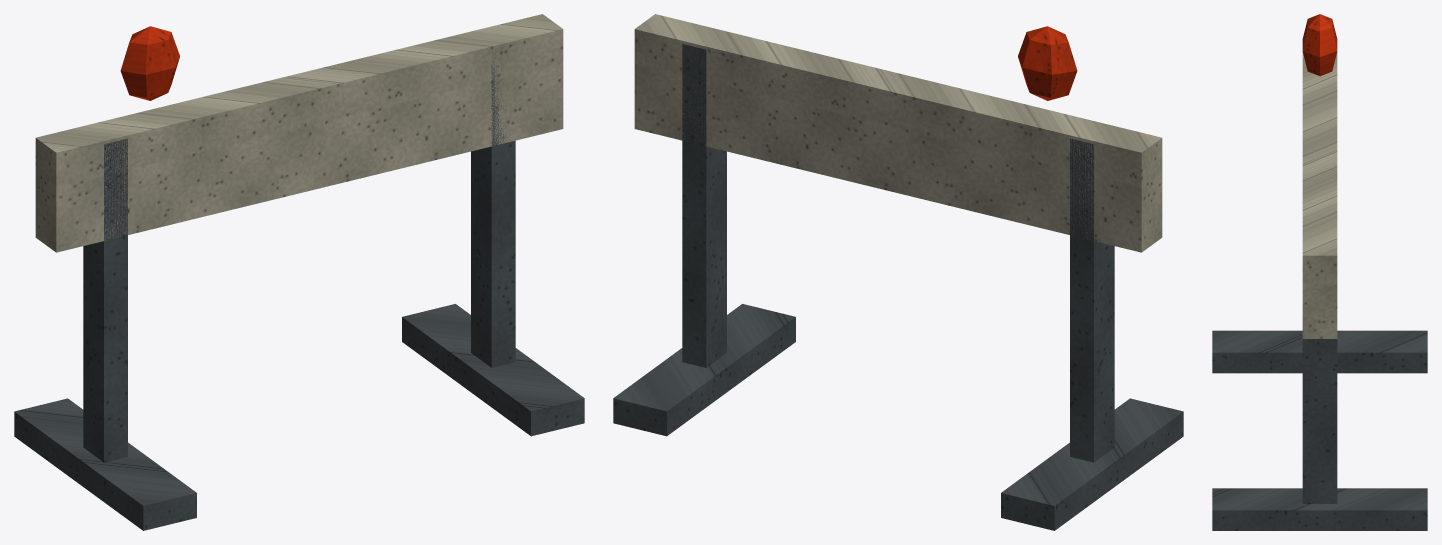
Rendered from PROP-D89DFF822F38_lod2.glb.
3 renders of one model, left to right at view 1: azimuth 30°, elevation 25°; view 2: azimuth 150°, elevation 25°; view 3: azimuth 270°, elevation 25°, orthographic. The views are drawn at different scales.
Parts seen in each view (by area): view 1: barrier_board.001, barrier_leg.001, barrier_foot.001, barrier_beacon.001; view 2: barrier_board.001, barrier_leg.001, barrier_foot.001, barrier_beacon.001; view 3: barrier_foot.001, barrier_board.001, barrier_leg.001, barrier_beacon.001.
Part boxes in pixels (x1,y1,x2,y2): barrier_board.001: (35,14,563,252); barrier_leg.001: (83,50,515,462); barrier_foot.001: (14,304,584,530); barrier_beacon.001: (120,26,179,100); barrier_board.001: (634,14,1162,252); barrier_leg.001: (682,44,1114,462); barrier_foot.001: (613,304,1183,530); barrier_beacon.001: (1018,26,1077,100); barrier_foot.001: (1212,330,1427,530); barrier_board.001: (1302,52,1337,338); barrier_leg.001: (1302,339,1337,503); barrier_beacon.001: (1302,14,1337,76).
Bounding box in the file's own units: 1.7 × 1.41 × 0.75.
3 materials, 3 textured.
